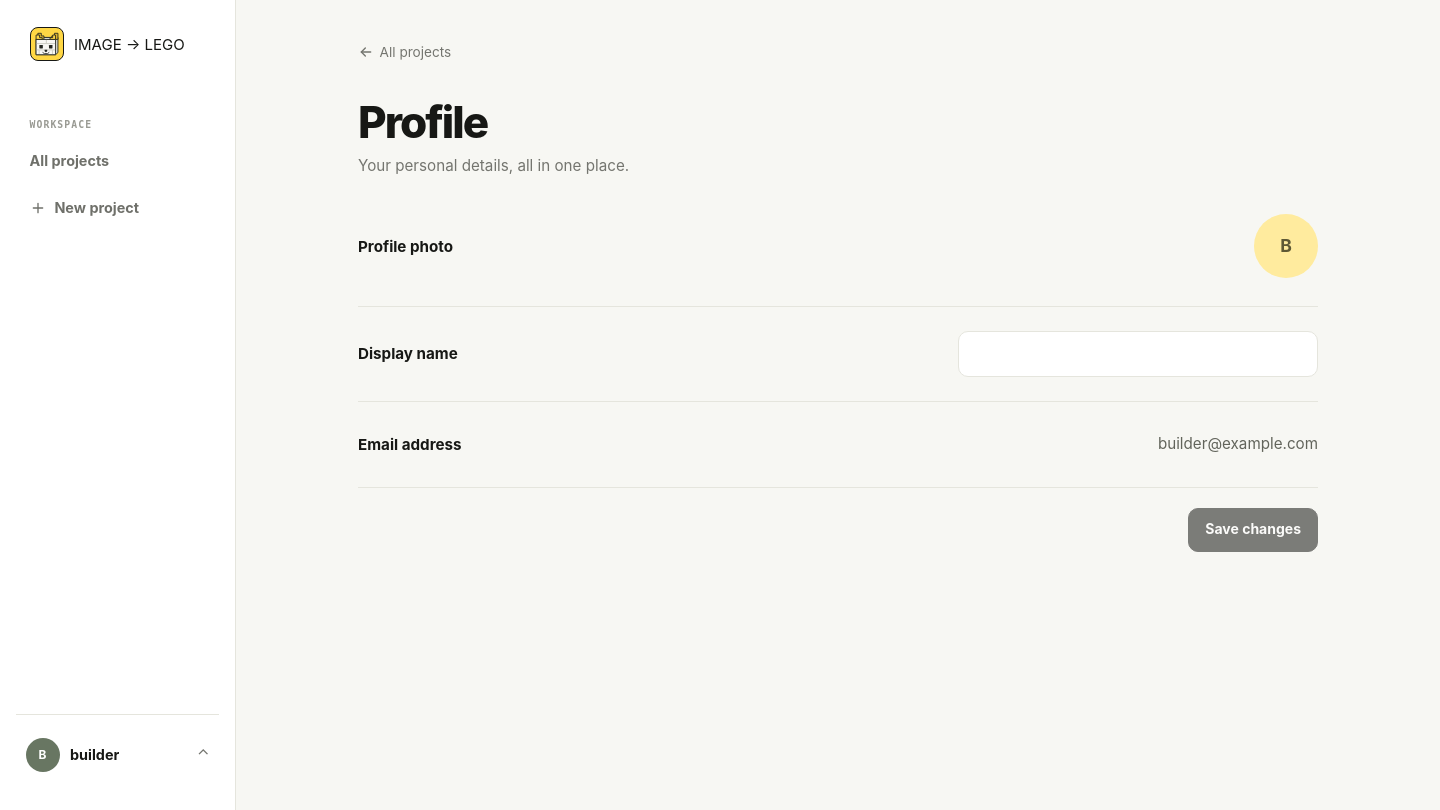
Test case: App › preserves the draft after a failed save and lets the user retry
Type "Reiwen" into the field labelled "Display name" at (1138, 354), box [958,331,1318,377]
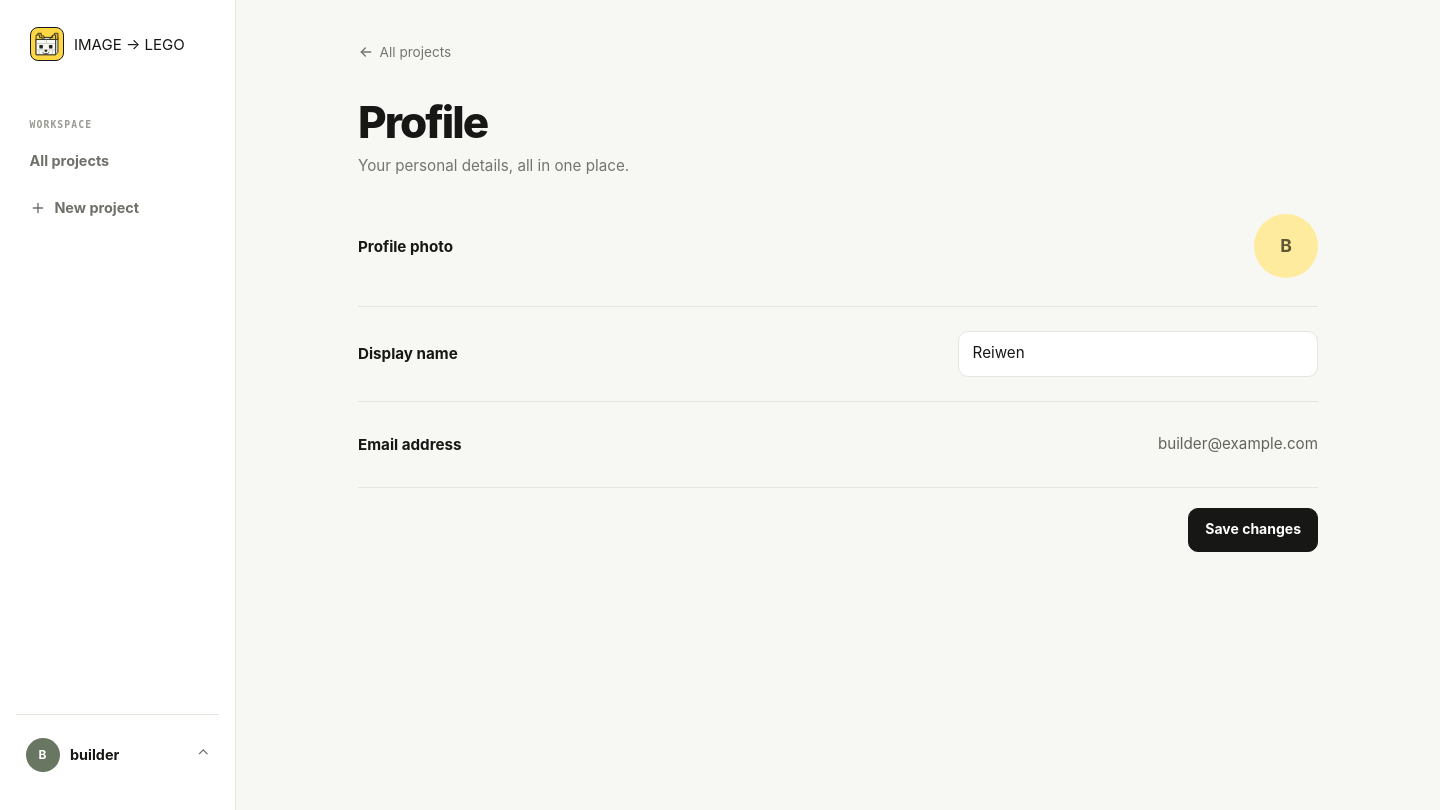
Click the button "Save changes" at (1253, 530), box [1188,508,1318,552]
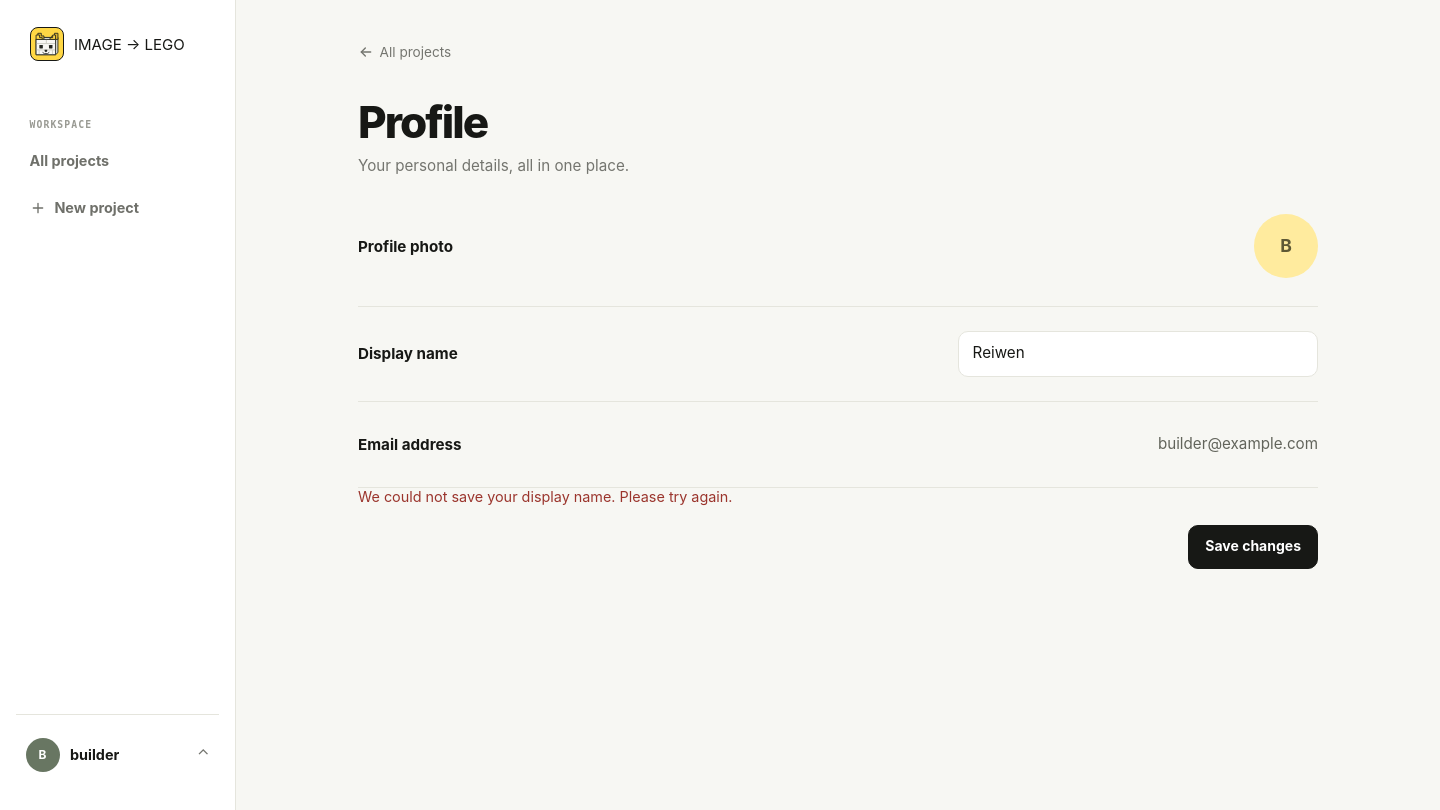
Now the message shows "We could not save your display name.", box [358,488,732,505]
Click the button "Save changes" at (1253, 547), box [1188,525,1318,569]
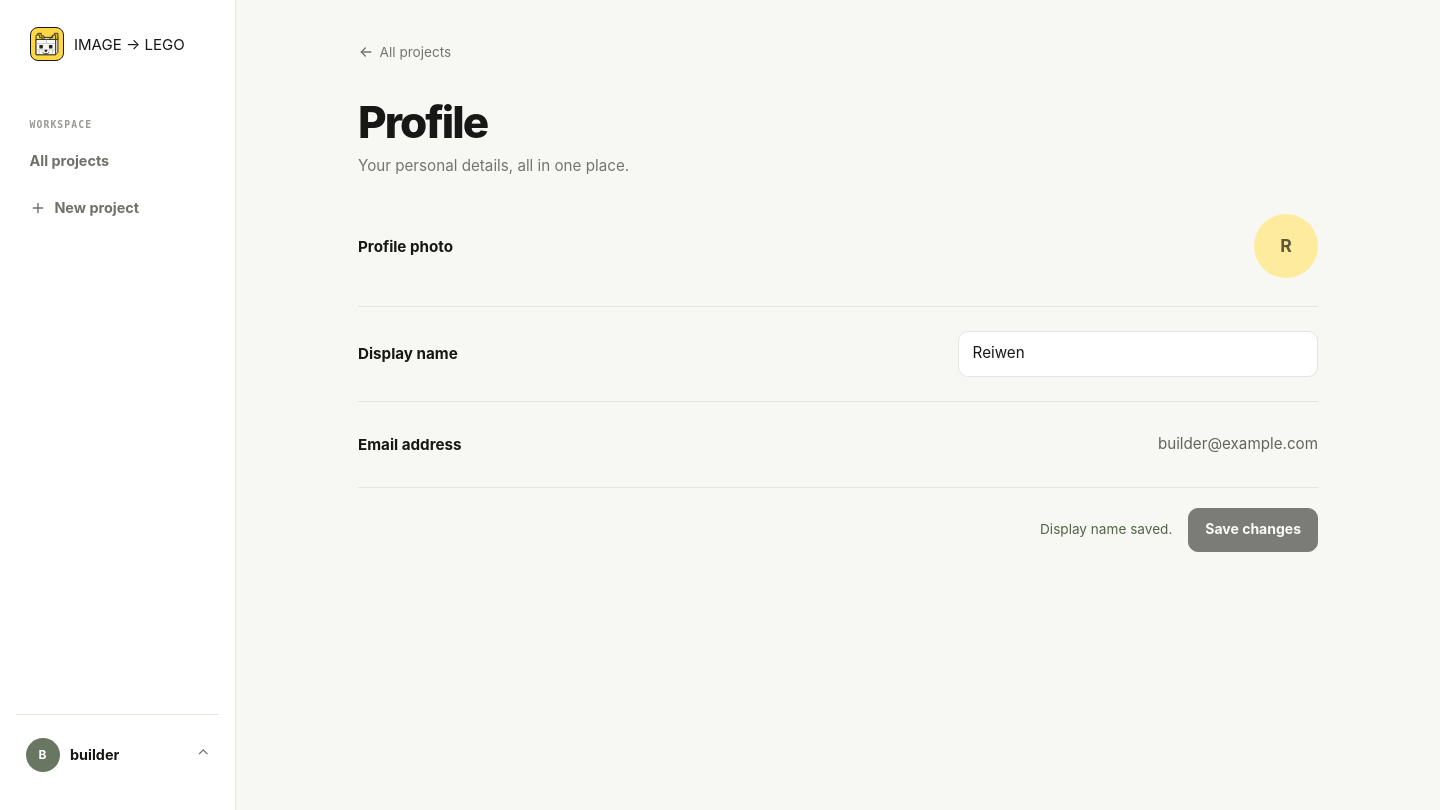
Now the text "Display name saved." is shown, box [1040,519,1172,540]
